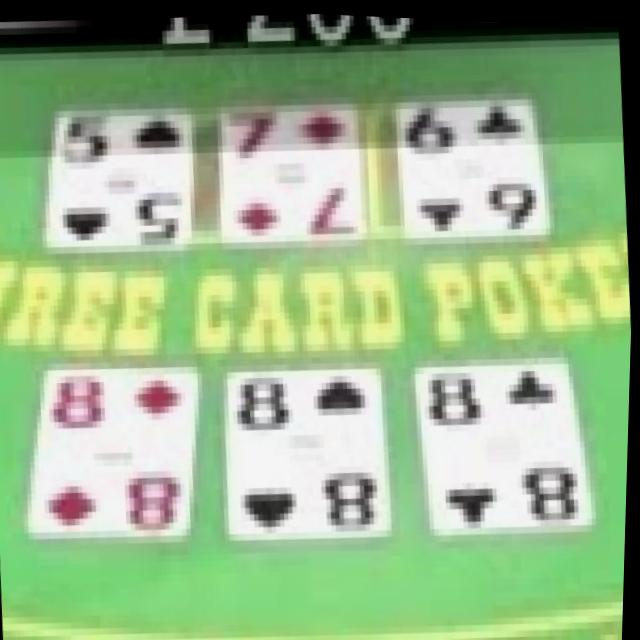Card-5: (49, 110, 193, 247)
Card-6: (401, 89, 547, 233)
Card-7: (222, 99, 364, 242)
Card-8: (419, 354, 597, 532), (32, 367, 200, 535), (230, 366, 393, 537)
